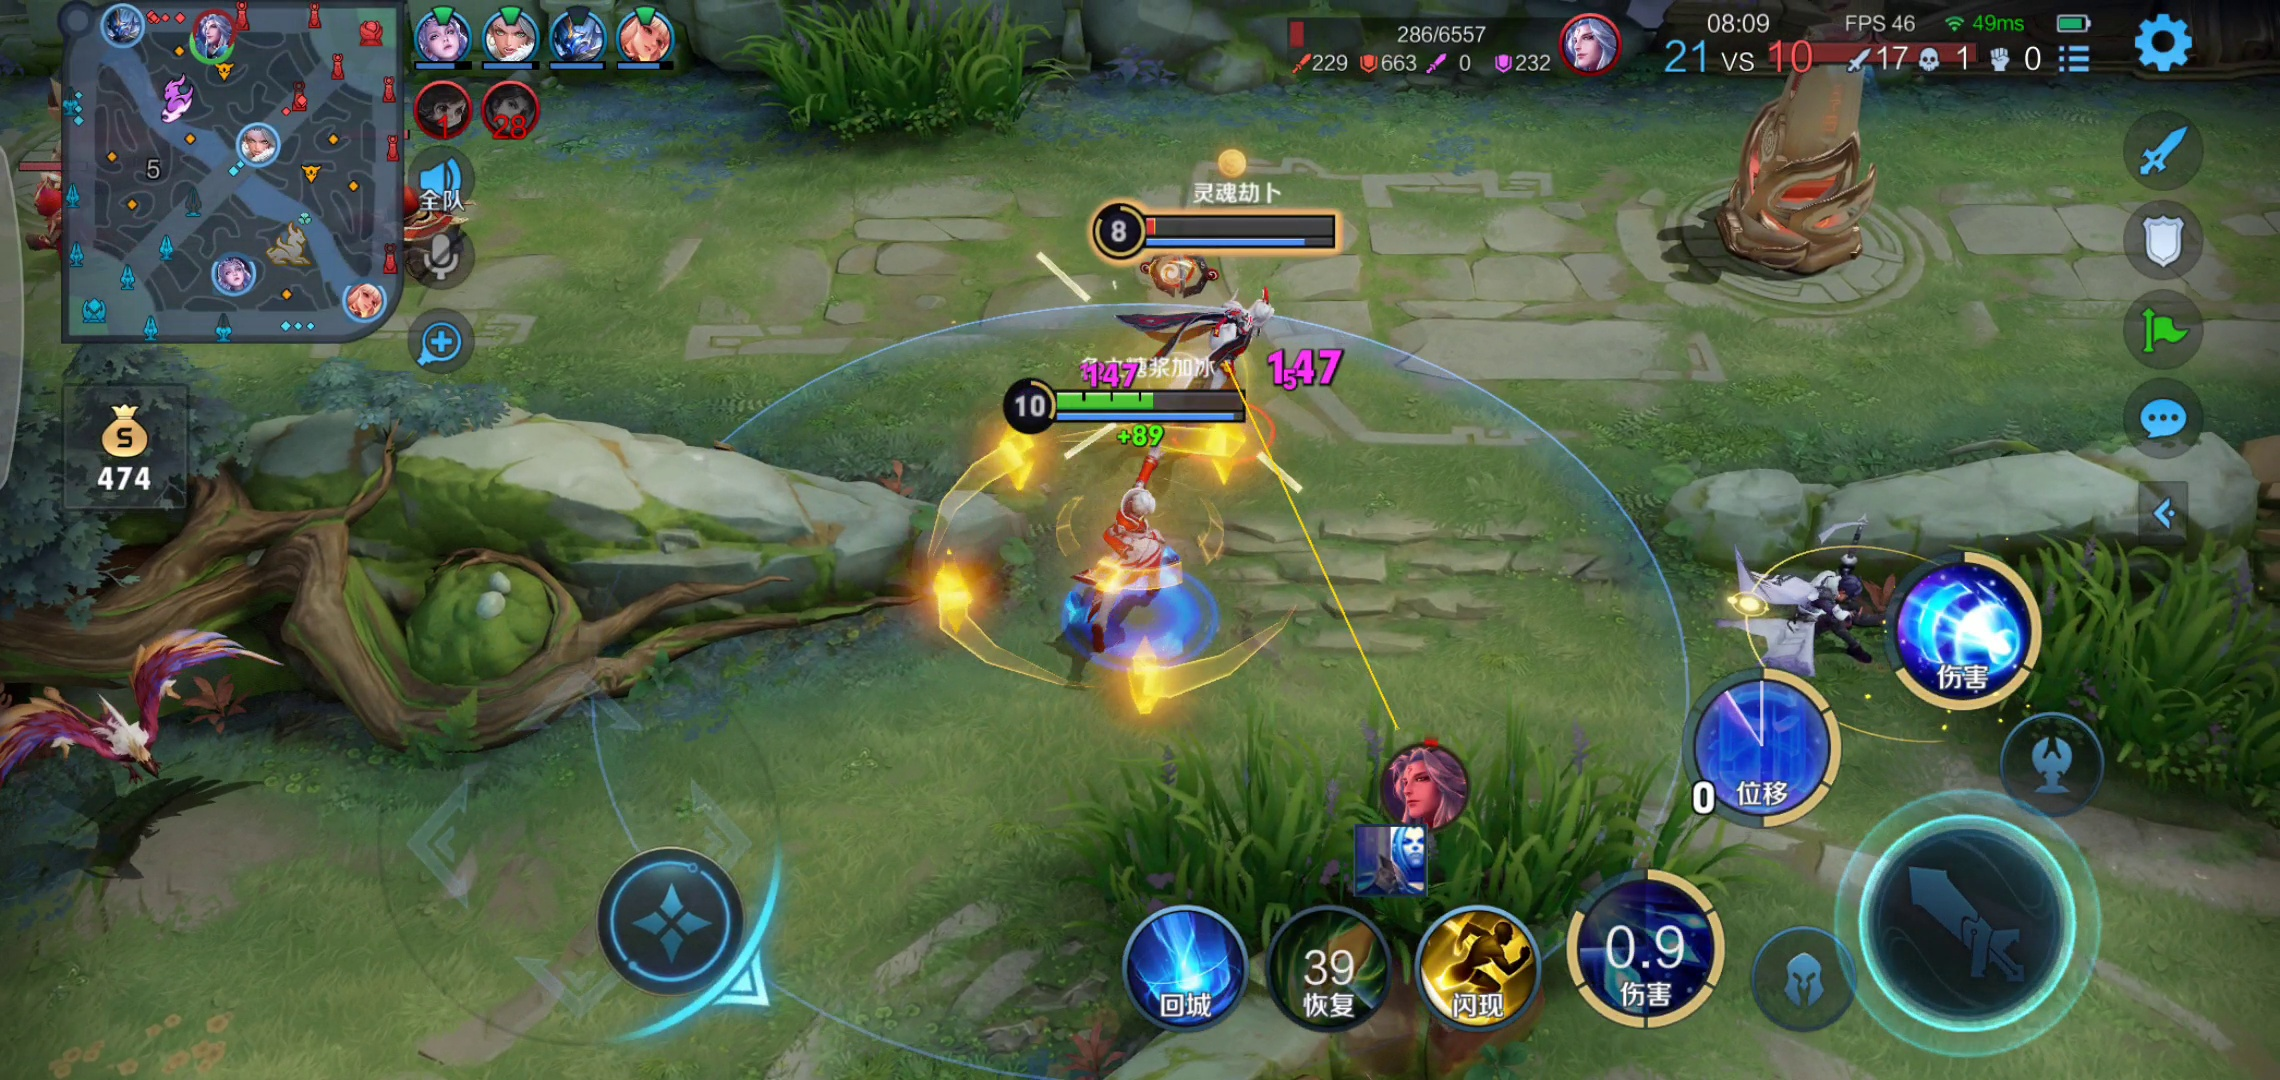grass: (1099, 736, 1655, 940), (1960, 528, 2279, 827), (771, 1, 1045, 138)
hero: (1048, 464, 1252, 670), (1131, 278, 1296, 456)
soldier: (349, 193, 486, 272), (16, 144, 100, 269)
tower: (1711, 15, 1895, 297)
wild_monster: (1, 628, 257, 818)
